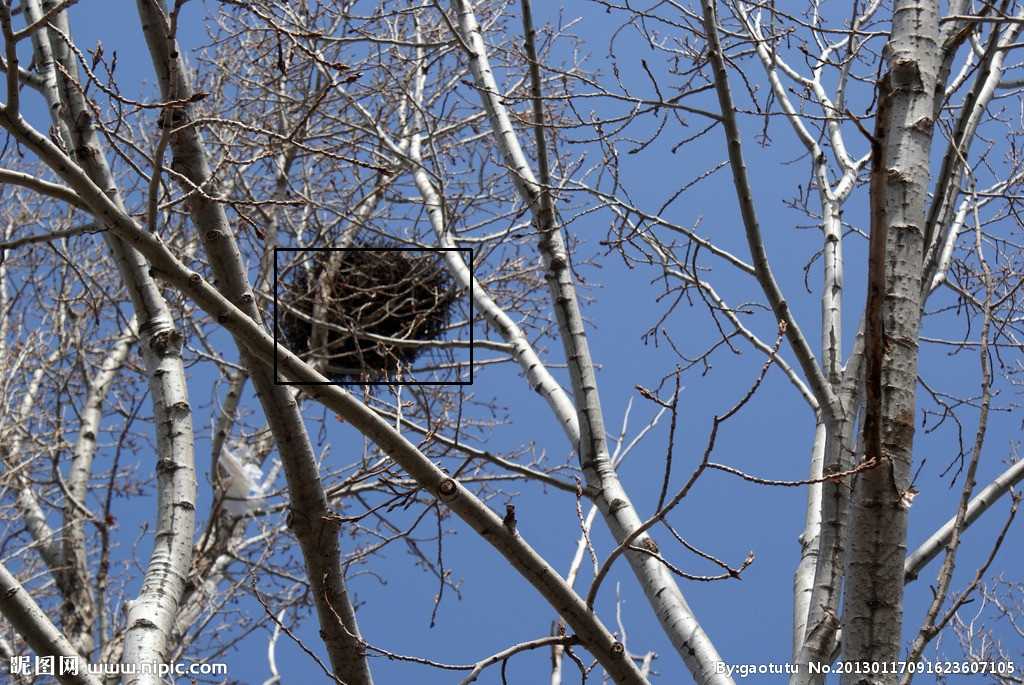bird-nest: (275, 249, 471, 383)
